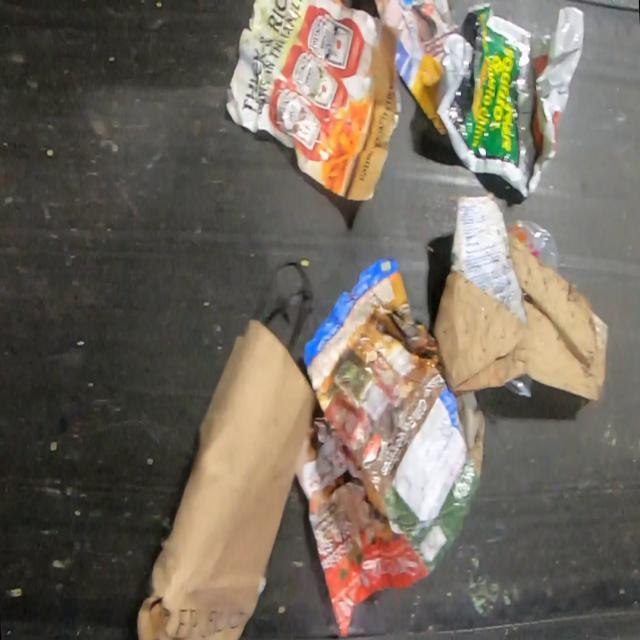cardboard: (138, 318, 318, 639), (431, 195, 611, 406)
rigid_plastic: (508, 215, 562, 277), (504, 373, 534, 397)
soft_plastic: (435, 2, 585, 201)
